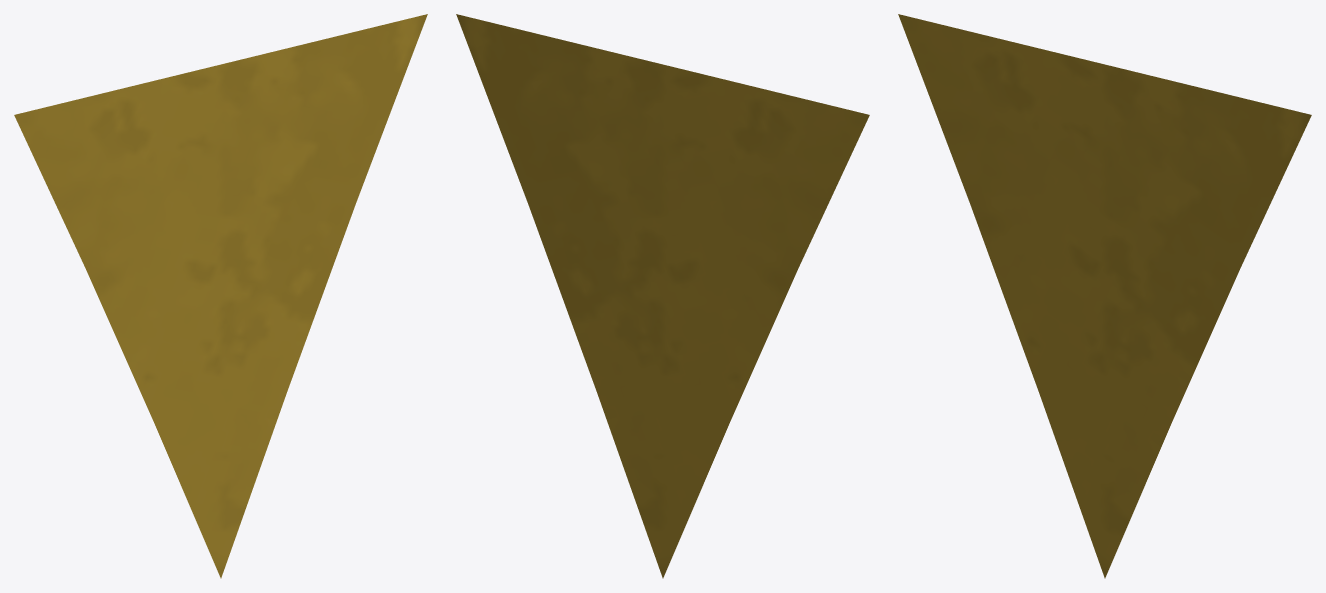
Rendered from Flag_Yellow.glb.
The picture shows the model from 3 angles, left to right: view 1: azimuth 30°, elevation 25°; view 2: azimuth 150°, elevation 25°; view 3: azimuth 330°, elevation 25°; orthographic projection.
Visible parts, largest first — view 1: Flag_Yellow.001; view 2: Flag_Yellow.001; view 3: Flag_Yellow.001.
Part boxes in pixels (x1,y1,x2,y2): Flag_Yellow.001: (14, 14, 427, 578); Flag_Yellow.001: (456, 14, 869, 578); Flag_Yellow.001: (898, 14, 1311, 578).
Size of the model in its own units: 0.3367 by 0.4 by 1.75e-08.
1 material, 1 textured.
